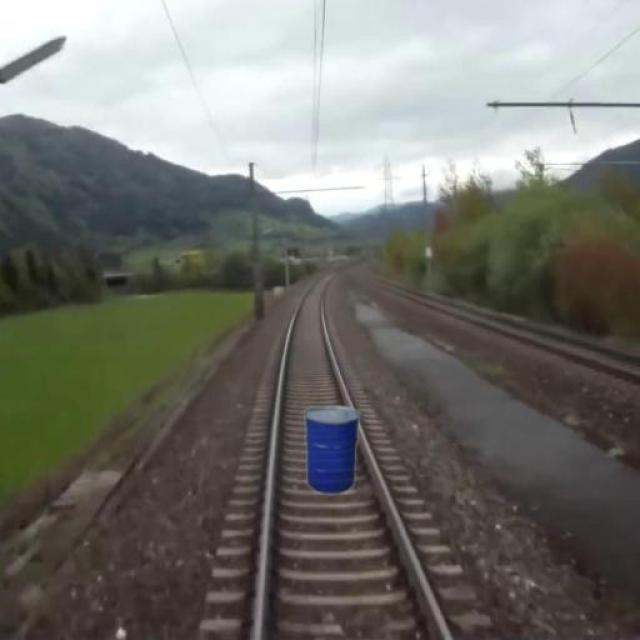Other_objects: (303, 397, 362, 492)
